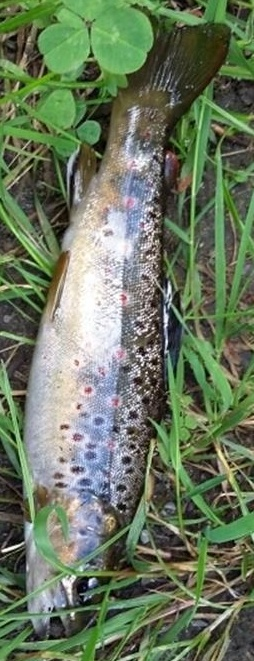Salmo trutta subsp. fario: (20, 20, 234, 641)
